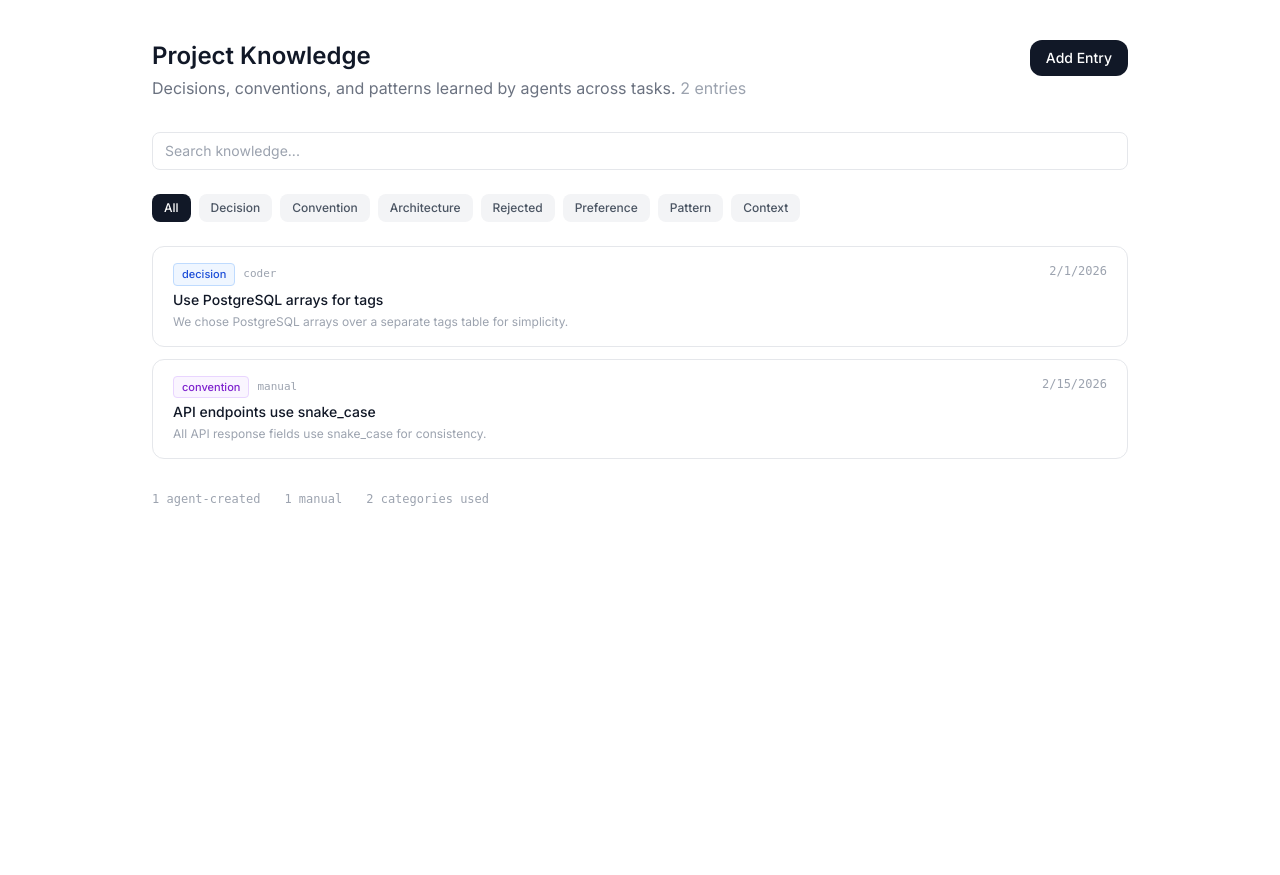
Test: KnowledgePage › clicking Add Entry opens the create form
Expected: the heading "Project Knowledge" is shown, [152,41,371,70]
Click the button "Add Entry": (1079, 58) [1030,40,1128,76]
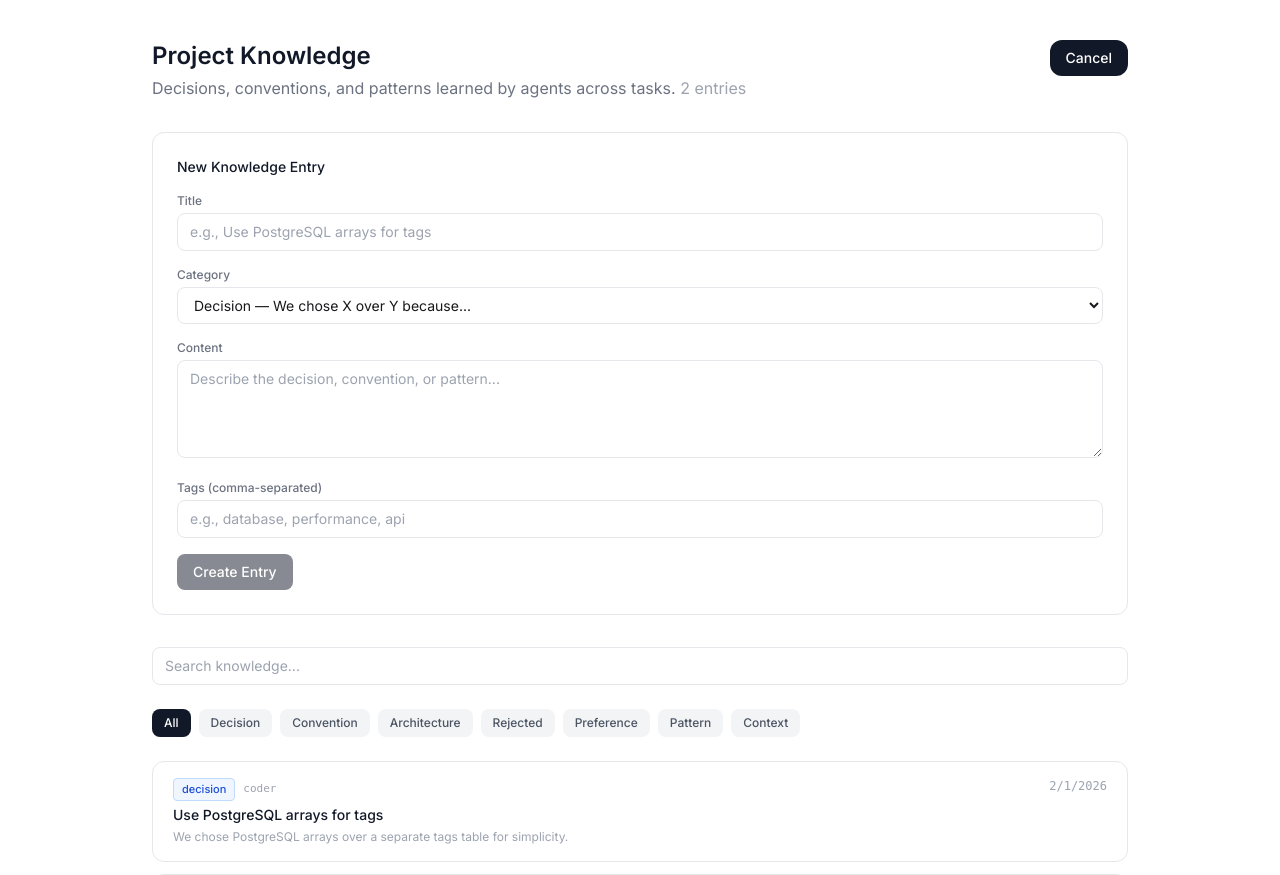
Expected: the heading "New Knowledge Entry" is shown, [177,158,325,175]
Expected: the field with placeholder "e.g., Use PostgreSQL arrays for tags" is shown, [177,213,1103,251]
Expected: the button "Create Entry" is shown, [177,554,293,590]
